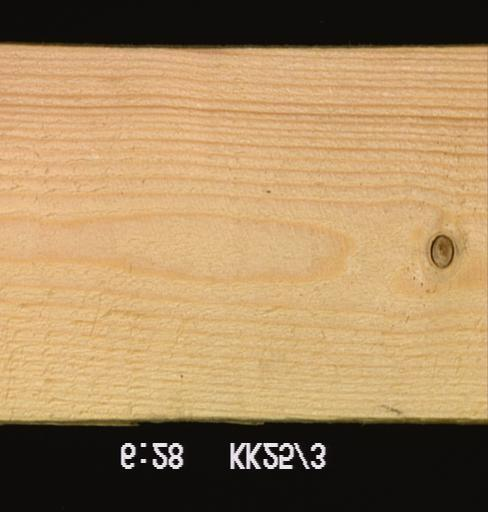dry_knot: (427, 232, 455, 270)
